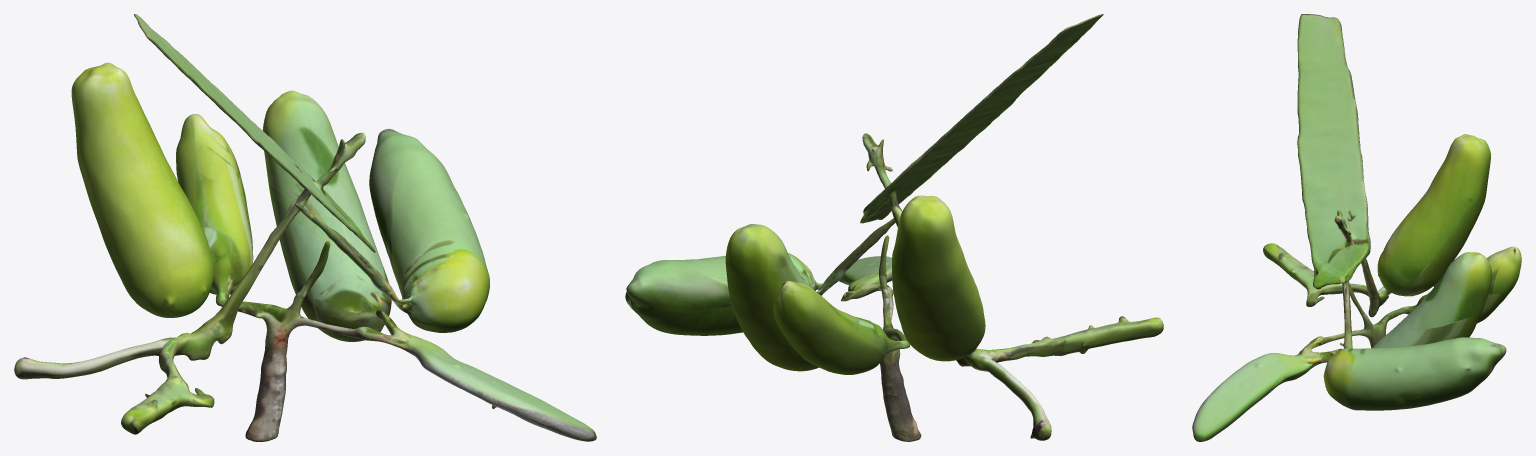
The model's file is tree0016_dup.gltf.
3 renders of one model, left to right at view 1: azimuth 30°, elevation 25°; view 2: azimuth 150°, elevation 25°; view 3: azimuth 270°, elevation 25°, orthographic. The views are drawn at different scales.
Parts seen in each view (by area): view 1: Mesh_0.049; view 2: Mesh_0.049; view 3: Mesh_0.049.
Boxes of the visible parts, x1,y1,x2,y2 form: Mesh_0.049: [14, 14, 596, 441]; Mesh_0.049: [625, 14, 1163, 441]; Mesh_0.049: [1192, 14, 1521, 441].
Size of the model in its own units: 1.98 by 1.98 by 1.79.
Materials: 1 (1 with a texture image).
